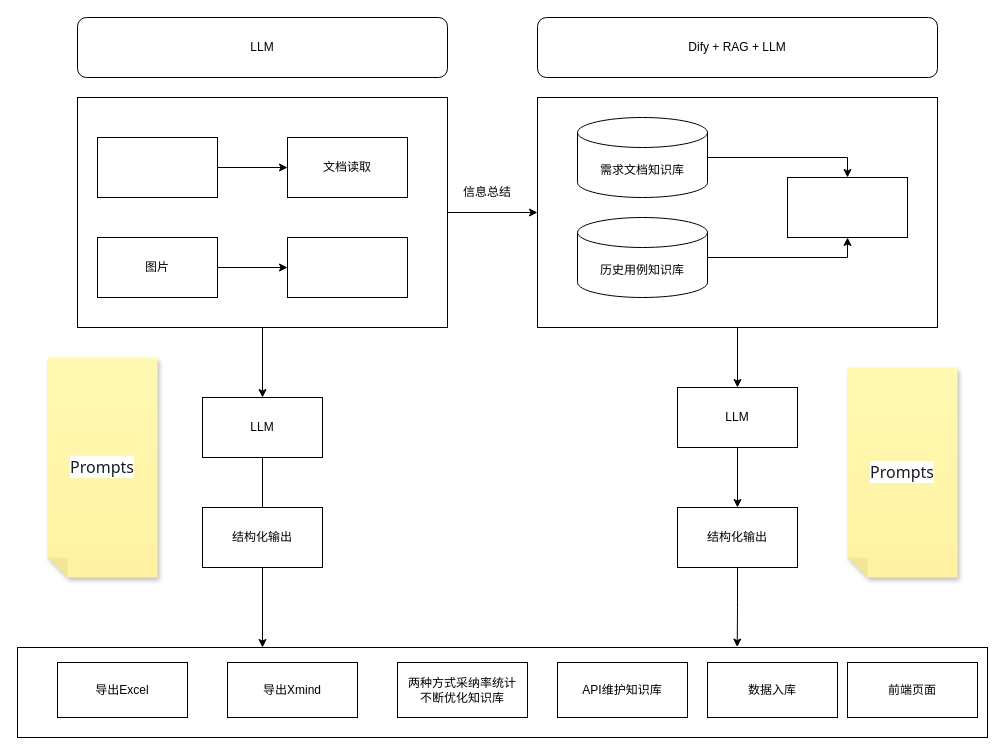
This 1005x755 diagram has some shape labels left out. Each missing label, with the centre of its shape:
"图片理解" goes at pixel 347 267.
"数据召回" goes at pixel 847 207.
"需求文档" goes at pixel 157 167.
